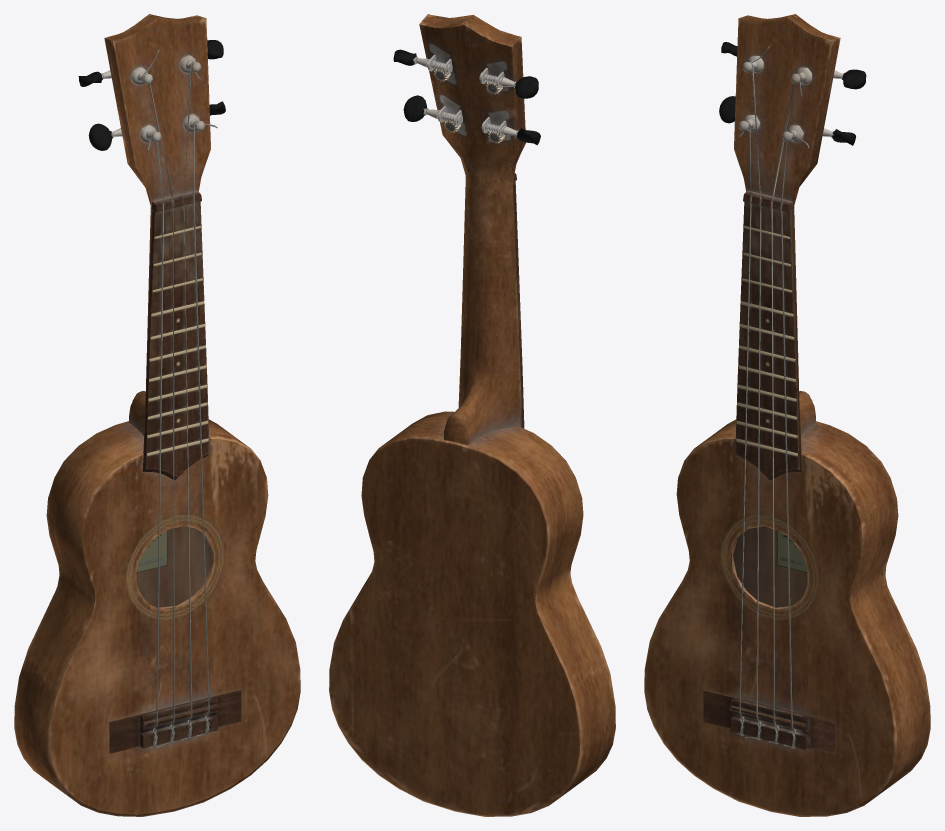
The model's file is Ukulele_01.glb.
3 views of the same model, side by side, from view 1: azimuth 30°, elevation 25°; view 2: azimuth 150°, elevation 25°; view 3: azimuth 330°, elevation 25° (orthographic).
Visible parts, largest first — view 1: Ukulele_01; view 2: Ukulele_01; view 3: Ukulele_01.
Part boxes in pixels (<box>): Ukulele_01: <box>14,14,300,816</box>; Ukulele_01: <box>329,14,615,816</box>; Ukulele_01: <box>644,14,930,816</box>.
Bounding box in the file's own units: 0.1779 × 0.527 × 0.0509.
1 material, 1 textured.
